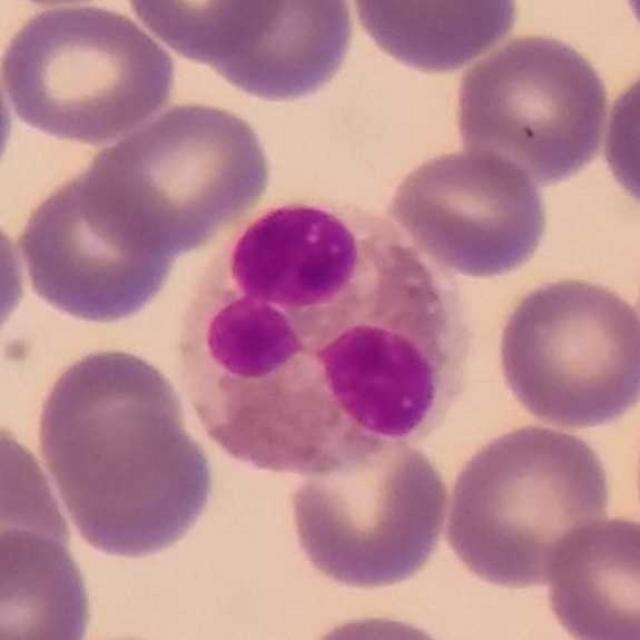eosino: (179, 203, 469, 478)
